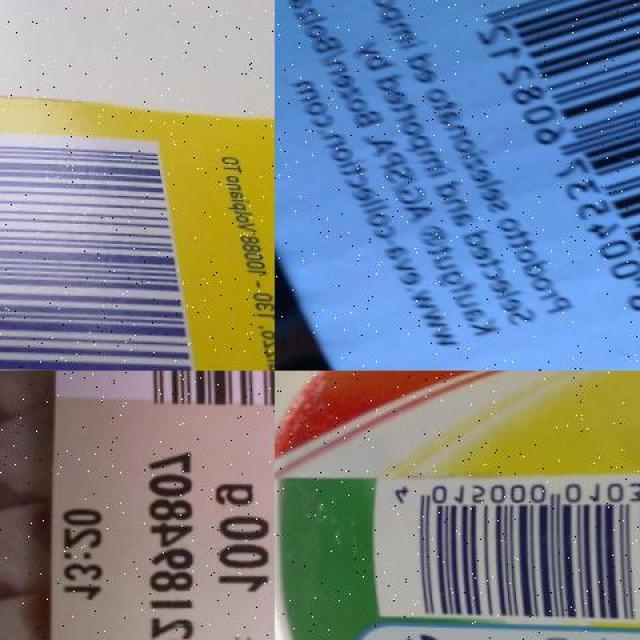Barcode: (460, 0, 640, 327), (0, 126, 221, 370), (372, 456, 640, 624)
